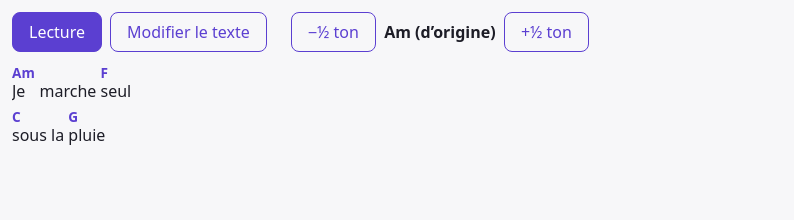
it: LyricsPanel › n’enregistre pas une transposition par-dessus des modifications en cours
Step 1. Click the button "+½ ton" → (546, 32), box x1=504 y1=12 x2=589 y2=52
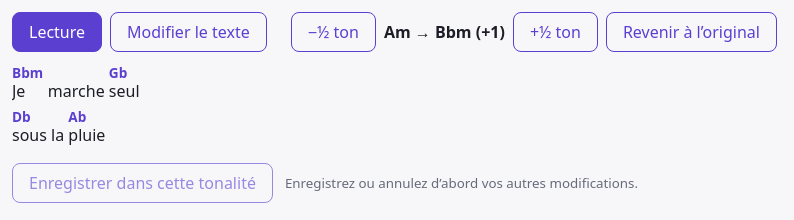
Check: the button "Enregistrer dans cette tonalité" is disabled, box x1=12 y1=163 x2=273 y2=203
